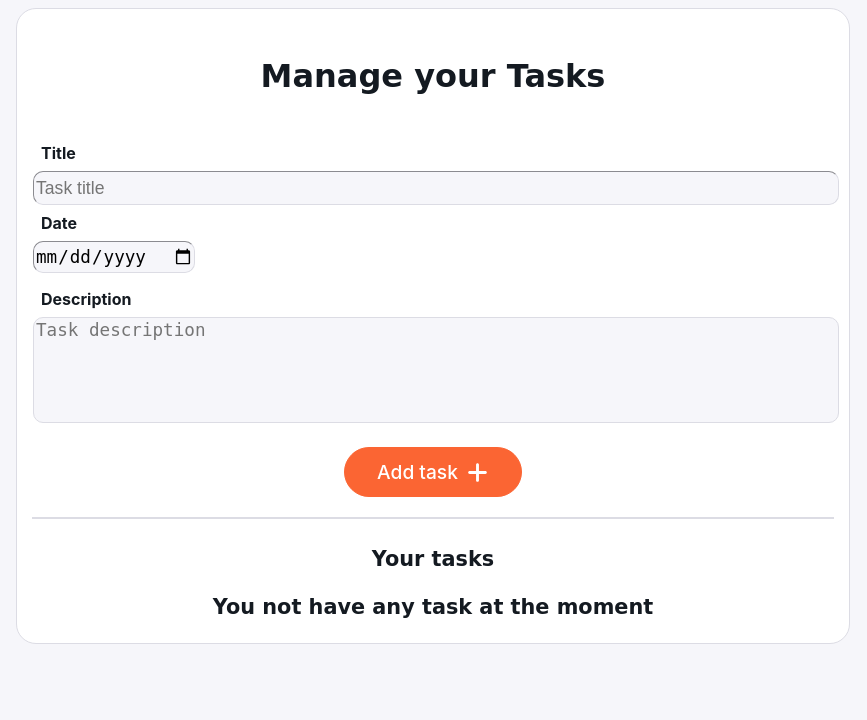
Test: Should render task in ListTasks after added
Type "2024-12-25" into the date field with placeholder "Task date" at (114, 257), box x1=33 y1=241 x2=195 y2=273
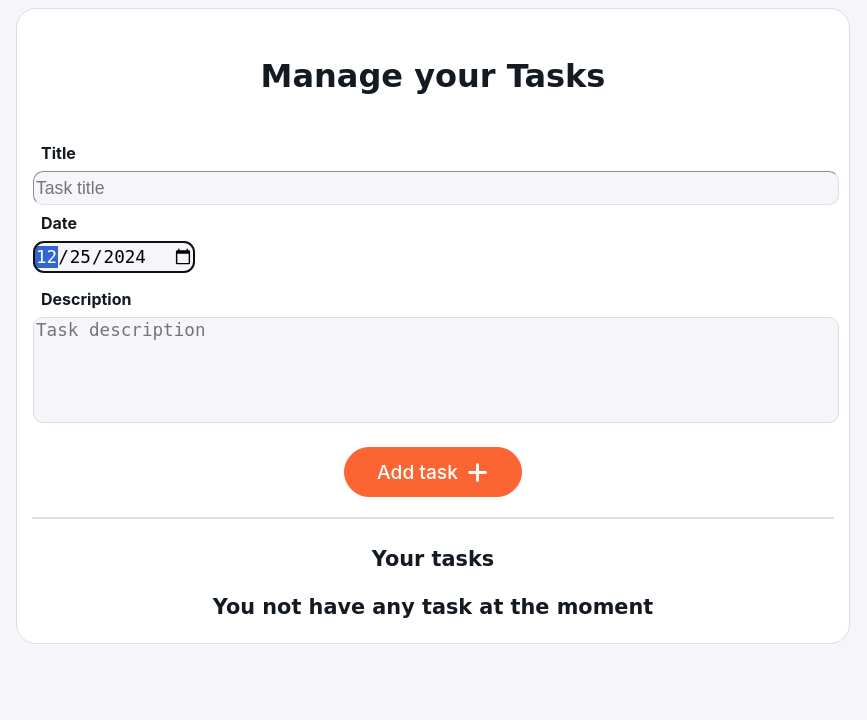
Type "Test description" into the text box with placeholder "Task description" at (436, 370), box x1=33 y1=317 x2=839 y2=423
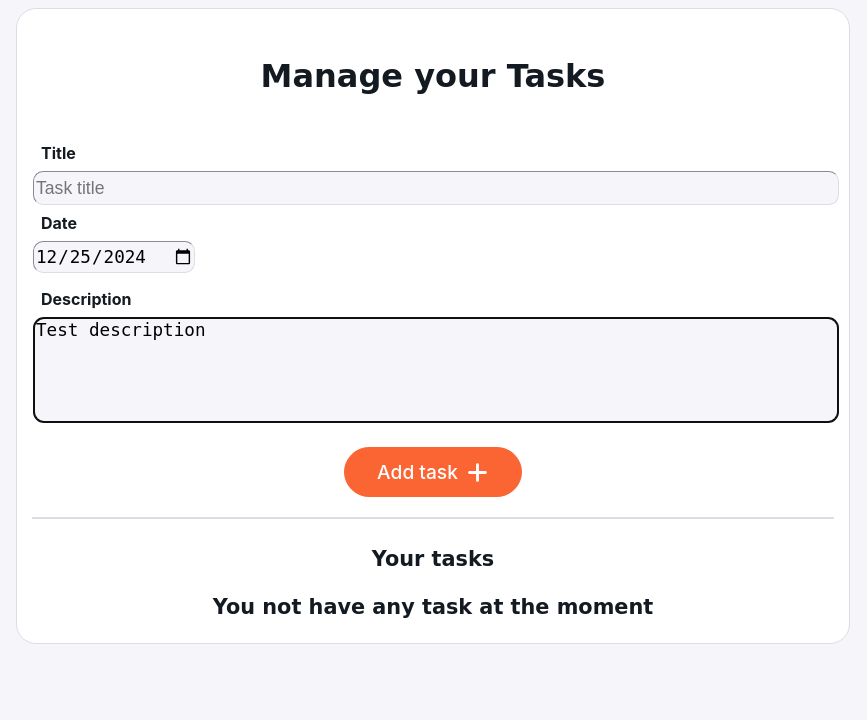
Type "Test" into the field with placeholder "Task title" at (436, 188), box x1=33 y1=171 x2=839 y2=205
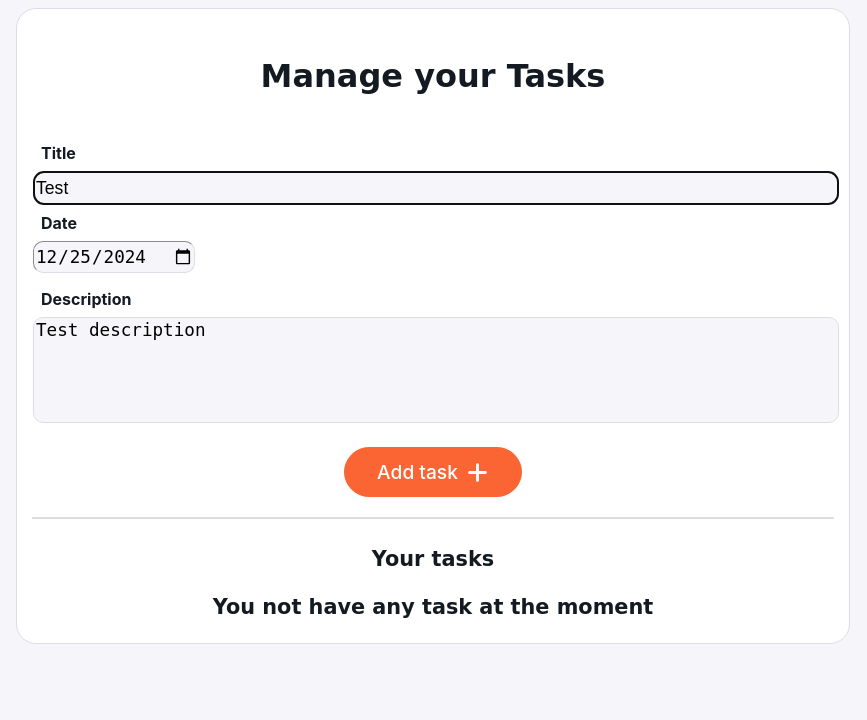
Click the button "Add task" at (433, 472), box x1=344 y1=447 x2=522 y2=497
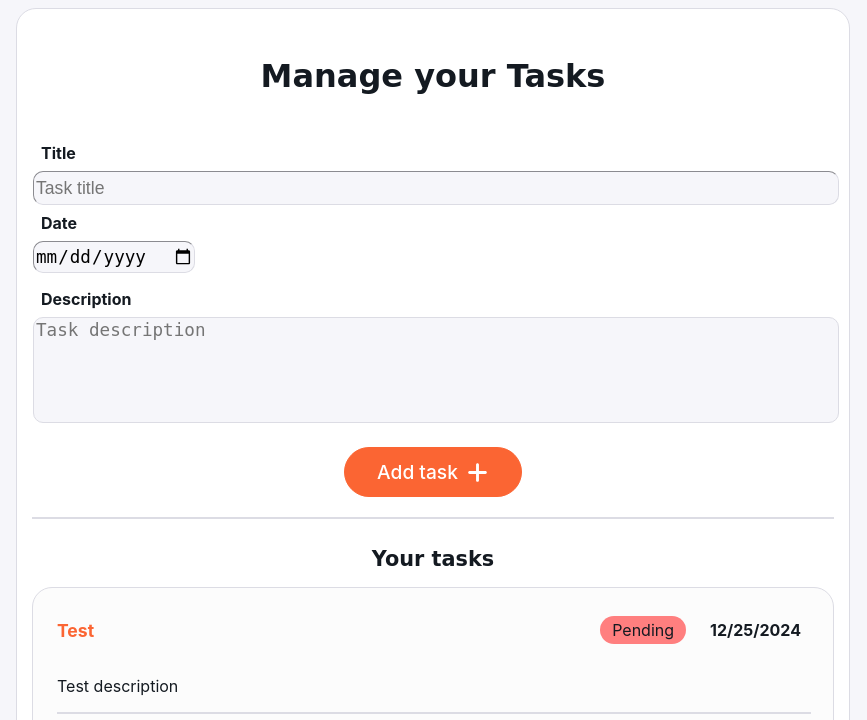
Expected: the text "Test" is shown, x1=57 y1=620 x2=94 y2=640
